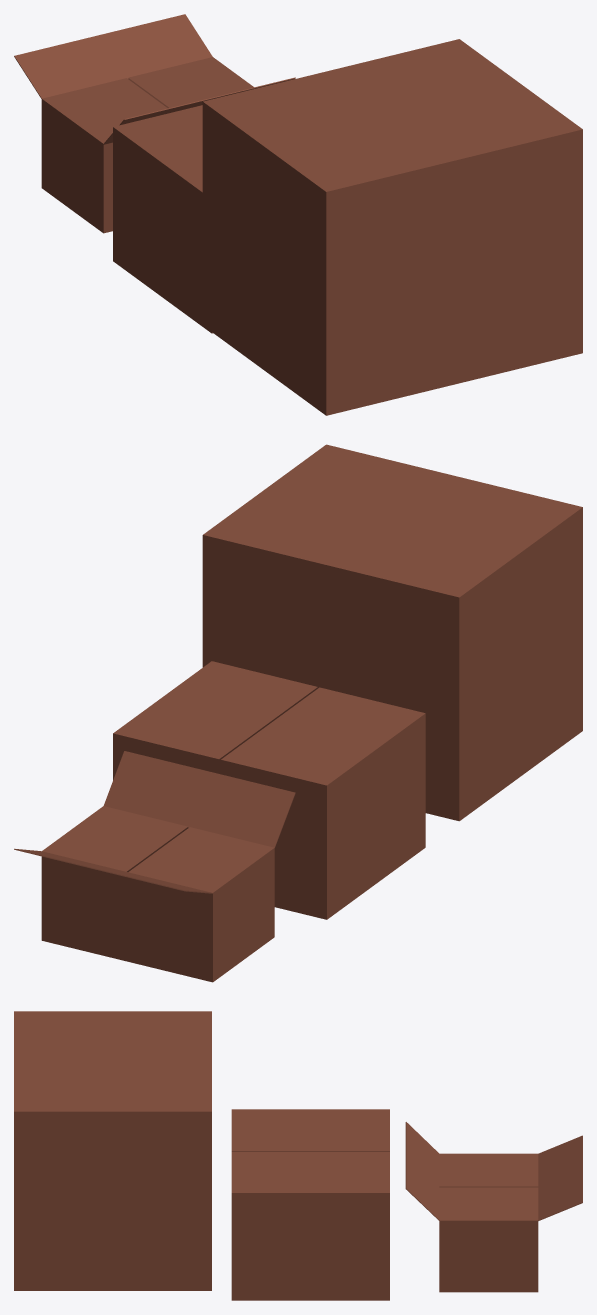
Rendered from Cardboard-boxes.fbx.
The picture shows the model from 3 angles, top to bottom: view 1: azimuth 30°, elevation 25°; view 2: azimuth 150°, elevation 25°; view 3: azimuth 270°, elevation 25°; orthographic projection. The views are drawn at different scales.
Parts seen in each view (by area): view 1: Box-1, Box-1.002, Box-1.001; view 2: Box-1, Box-1.001, Box-1.002; view 3: Box-1, Box-1.001, Box-1.002.
Part boxes in pixels (left/top/right/bottom): Box-1: left=202, top=39, right=582, bottom=415; Box-1.002: left=14, top=14, right=295, bottom=233; Box-1.001: left=113, top=105, right=212, bottom=333; Box-1: left=202, top=444, right=582, bottom=821; Box-1.001: left=113, top=661, right=425, bottom=919; Box-1.002: left=14, top=751, right=295, bottom=982; Box-1: left=14, top=1011, right=211, bottom=1290; Box-1.001: left=231, top=1109, right=389, bottom=1300; Box-1.002: left=405, top=1122, right=582, bottom=1292.
Size of the model in its own units: 60 by 55 by 144.
